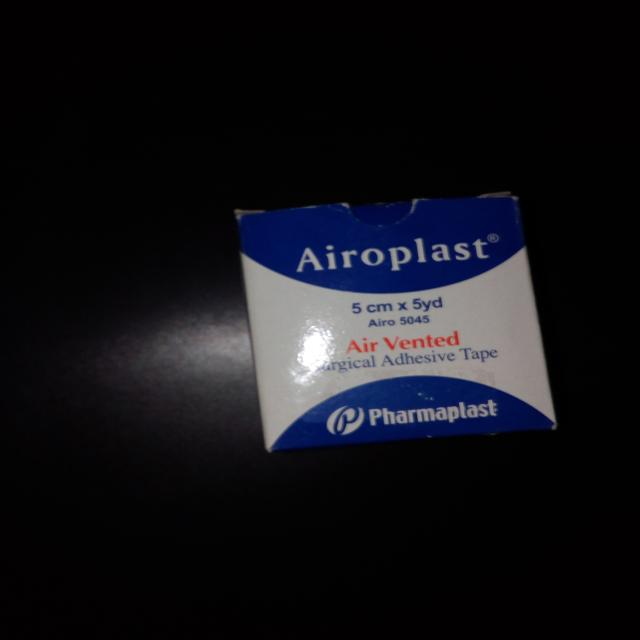Medicine: (230, 188, 563, 454)
